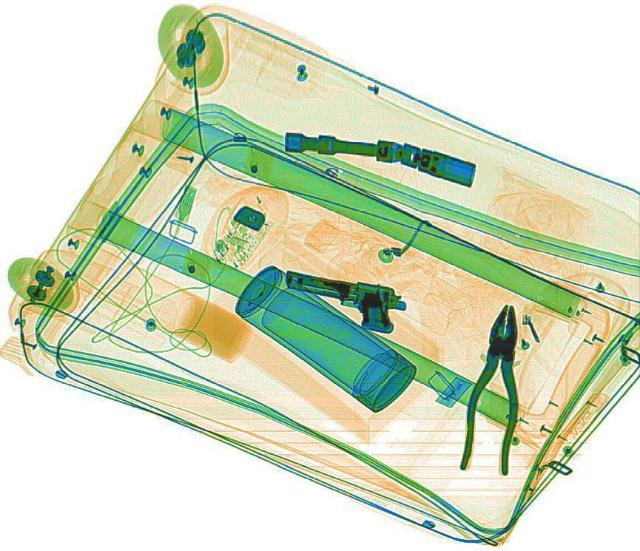Gun: (274, 264, 412, 335)
Pliers: (455, 301, 533, 473)
